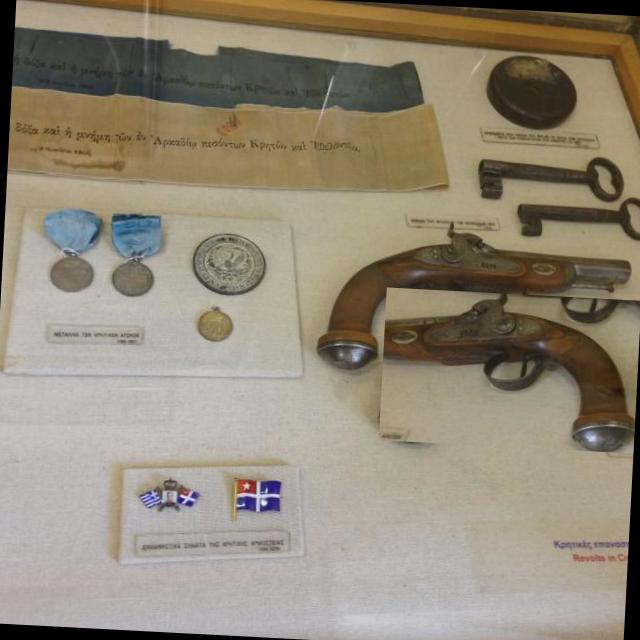Gun: (320, 228, 631, 368), (384, 294, 635, 452)
